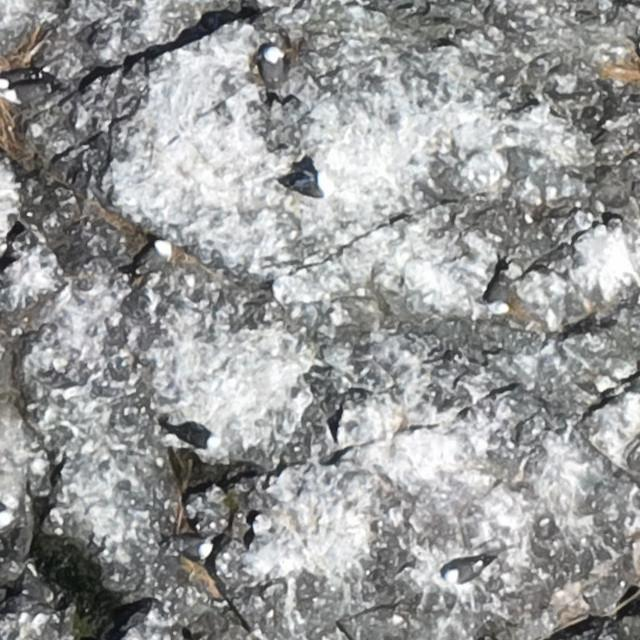umineko: (175, 427, 223, 453), (292, 171, 335, 199), (140, 241, 172, 272), (173, 539, 212, 559), (262, 48, 282, 85), (445, 563, 479, 583), (5, 84, 41, 102), (1, 72, 35, 91), (0, 506, 10, 527)
